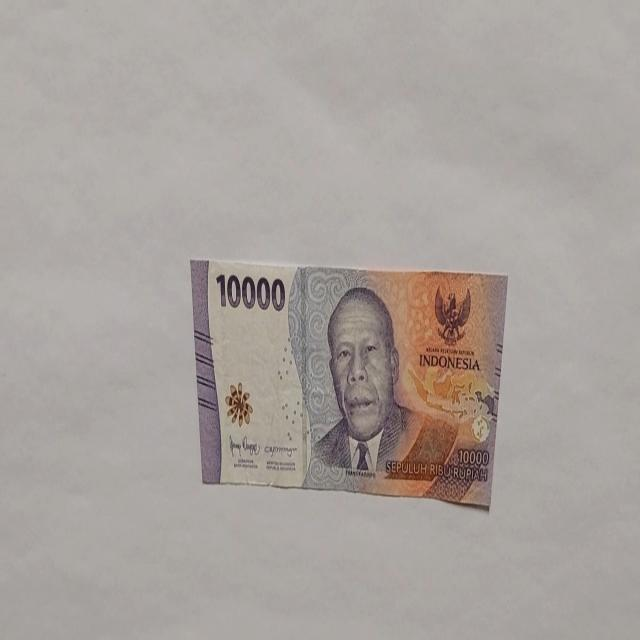sepuluh ribu rupiah: (190, 256, 508, 508)
